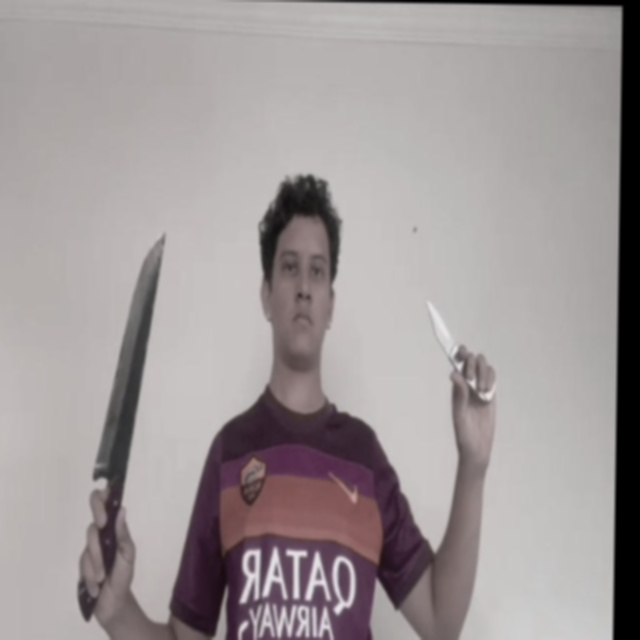Sharp-Object: (93, 229, 165, 482), (424, 298, 455, 360)
